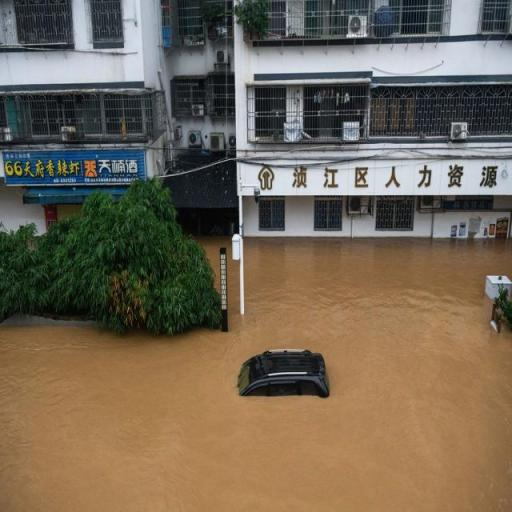flood: (0, 237, 512, 512)
house: (231, 0, 512, 239), (0, 0, 162, 219), (449, 0, 511, 38)
